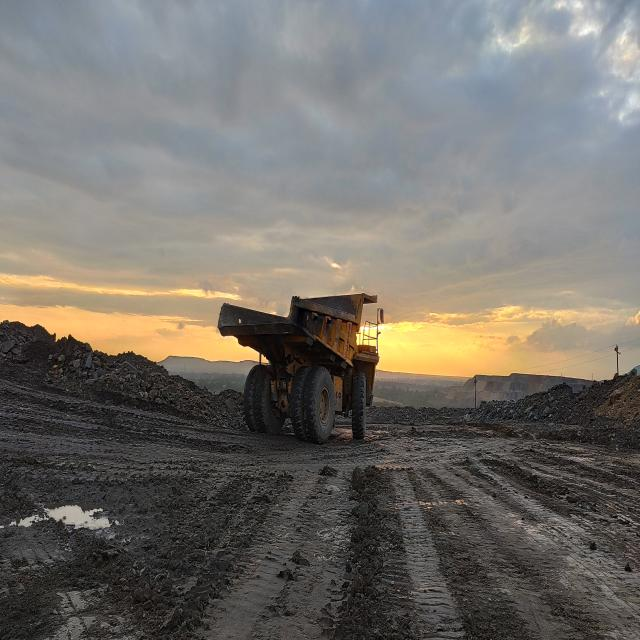dump_truck: (219, 293, 384, 444)
